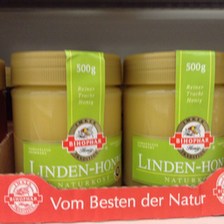honey: (8, 52, 123, 194), (126, 50, 224, 184)
